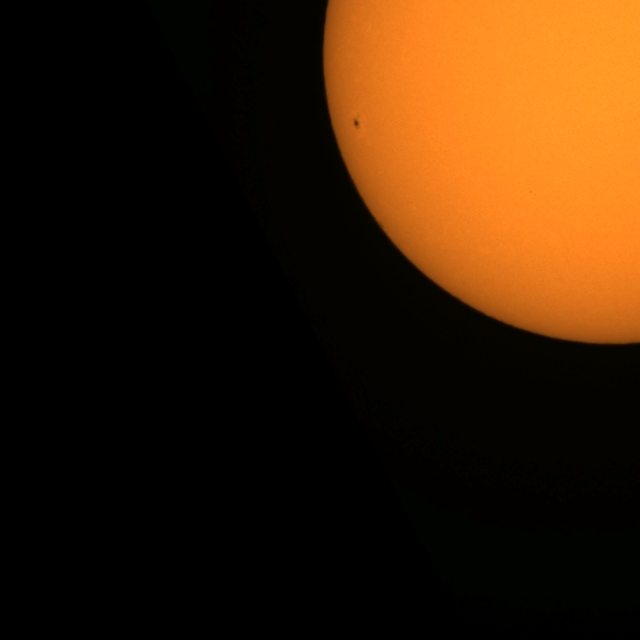sunspot: (352, 113, 362, 130), (528, 189, 536, 196)
